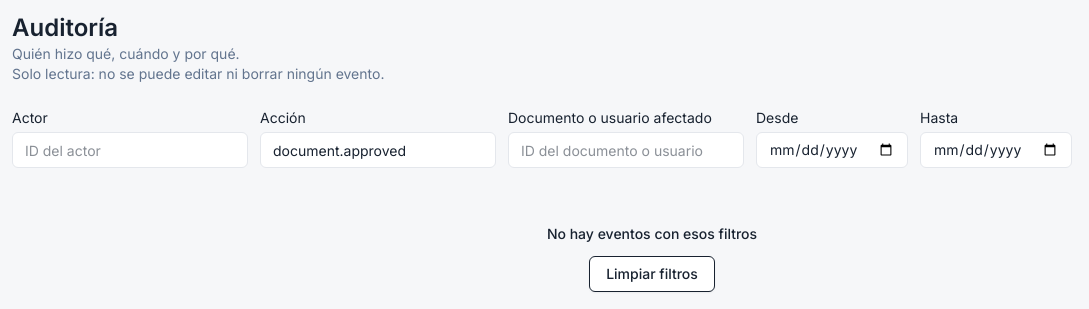
AuditPage › sin resultados → Limpiar filtros vacía los filtros
The image size is (1089, 309).
Expected: the text "No hay eventos con esos filtros" is shown, [547,224,757,244]
Click the button "Limpiar filtros". click: [652, 274]
box: [589,256,715,292]
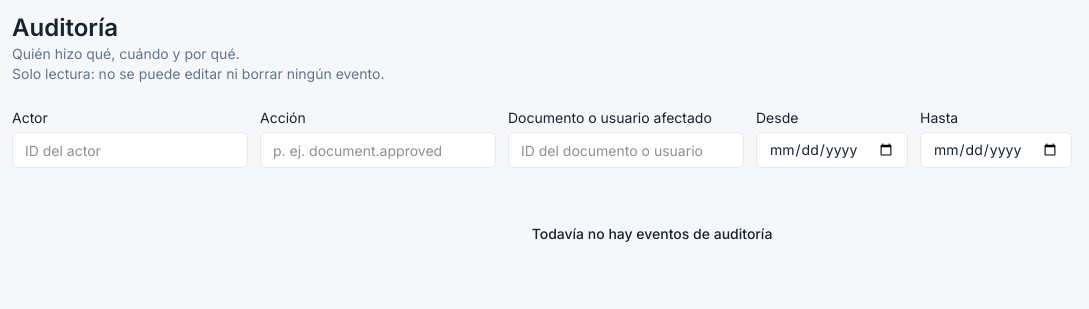
Now the field labelled "Acción" is empty, box [260,132,496,168]
